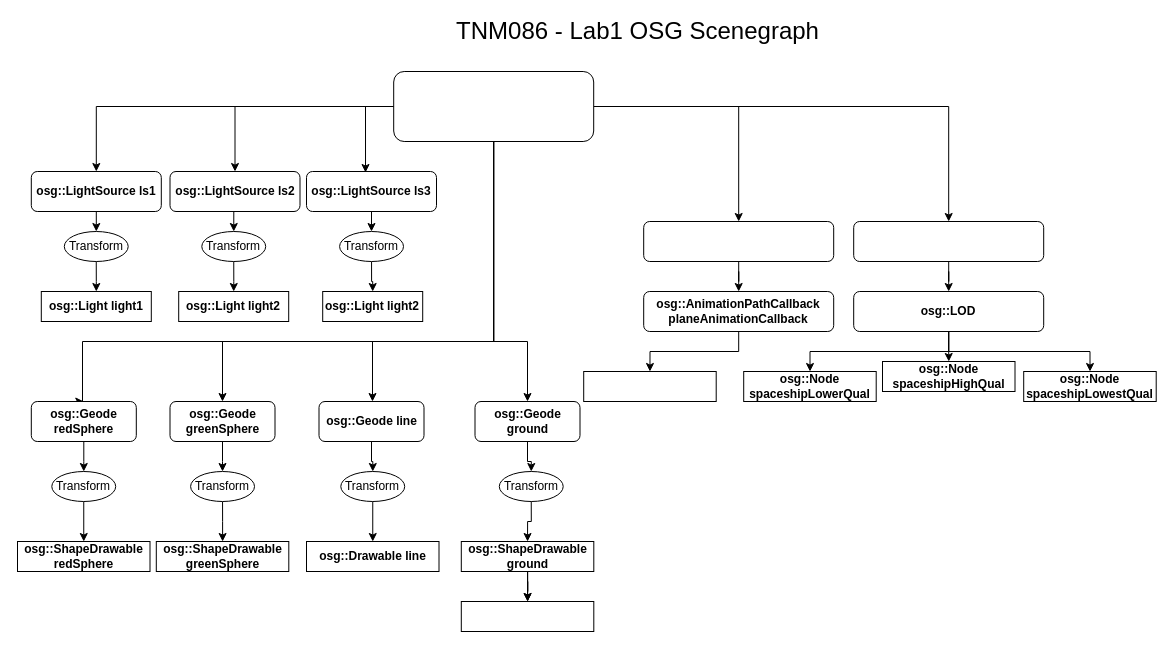
Some shapes in this 1174 by 649 pixel diagram are drawn without their labels. The centre of each missing label's shape, as x and y in pixels:
osg::Group root: the point at 493,106
osg::Node airplane: the point at 649,386
osg::PositionAttitudeTransform airplaneTransform: the point at 738,241
osg::PositionAttitudeTransform spaceshipTransform: the point at 948,241
osg::Texture2D groundTexture: the point at 527,616
